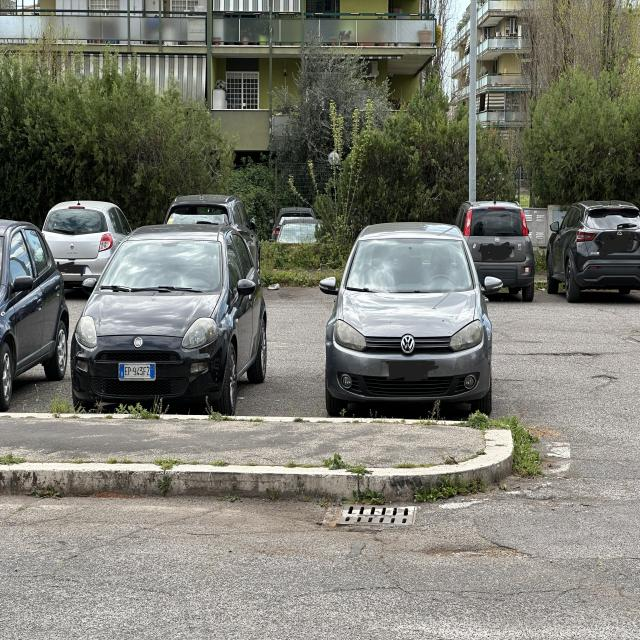number_plate: (119, 363, 155, 380)
